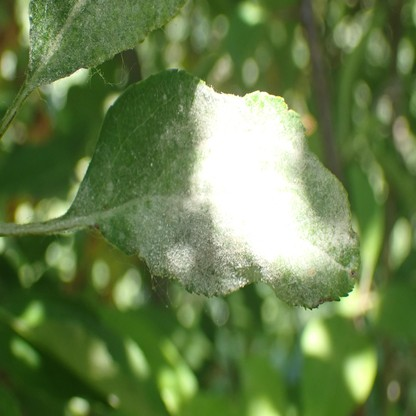powder: (67, 72, 362, 307), (28, 0, 188, 88)
